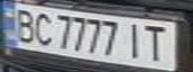7: (100, 18, 124, 56), (51, 11, 72, 50), (84, 16, 103, 53), (69, 15, 87, 52)
B: (9, 6, 39, 44)
C: (30, 9, 57, 47)
I: (121, 20, 148, 61)
T: (139, 23, 175, 62)
